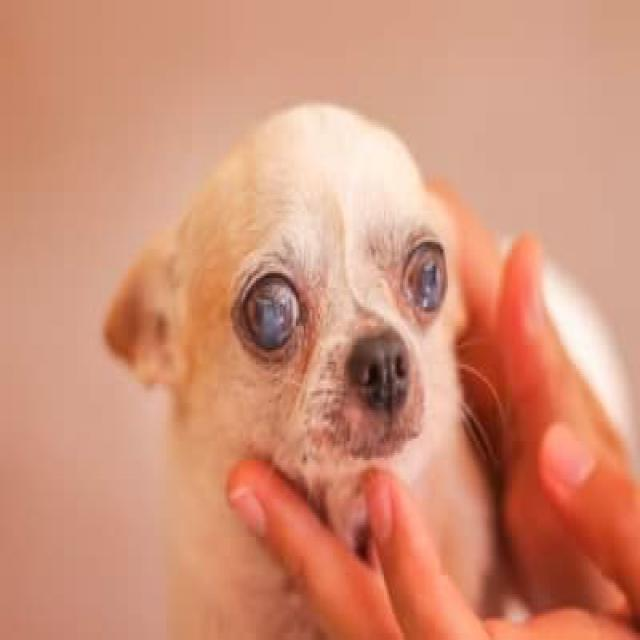eye: (235, 265, 310, 359), (398, 234, 451, 317)
